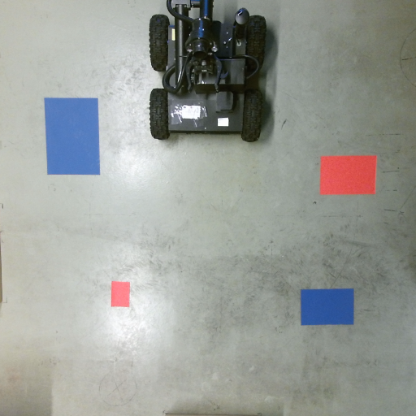Blue: (41, 96, 102, 177), (298, 288, 357, 328)
Jaguar: (148, 0, 268, 145)
Red: (315, 154, 379, 199), (109, 280, 132, 307)
